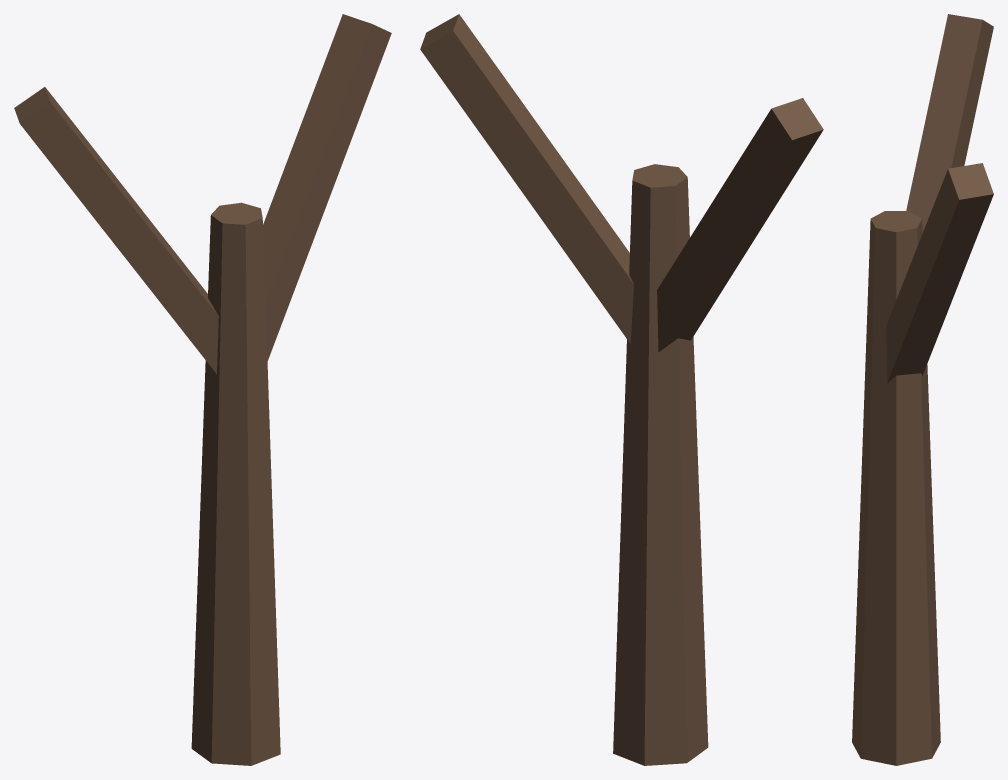
The model's file is Kit_InfernalCaldera_Tree_LOD0.glb.
The picture shows the model from 3 angles, left to right: view 1: azimuth 30°, elevation 25°; view 2: azimuth 150°, elevation 25°; view 3: azimuth 270°, elevation 25°; orthographic projection. The views are drawn at different scales.
Parts seen in each view (by area): view 1: Kit_InfernalCaldera_Tree_LOD0_Warm timber_-1_0, Kit_InfernalCaldera_Tree_LOD0_Warm timber_0_0; view 2: Kit_InfernalCaldera_Tree_LOD0_Warm timber_-1_0, Kit_InfernalCaldera_Tree_LOD0_Warm timber_0_0; view 3: Kit_InfernalCaldera_Tree_LOD0_Warm timber_-1_0, Kit_InfernalCaldera_Tree_LOD0_Warm timber_0_0.
Boxes of the visible parts, x1,y1,x2,y2 form: Kit_InfernalCaldera_Tree_LOD0_Warm timber_-1_0: [14, 87, 280, 765]; Kit_InfernalCaldera_Tree_LOD0_Warm timber_0_0: [263, 14, 391, 360]; Kit_InfernalCaldera_Tree_LOD0_Warm timber_-1_0: [613, 98, 823, 765]; Kit_InfernalCaldera_Tree_LOD0_Warm timber_0_0: [420, 14, 633, 343]; Kit_InfernalCaldera_Tree_LOD0_Warm timber_-1_0: [852, 14, 993, 765]; Kit_InfernalCaldera_Tree_LOD0_Warm timber_0_0: [886, 163, 993, 382].
Size of the model in its own units: 12.26 by 20.95 by 4.11.
